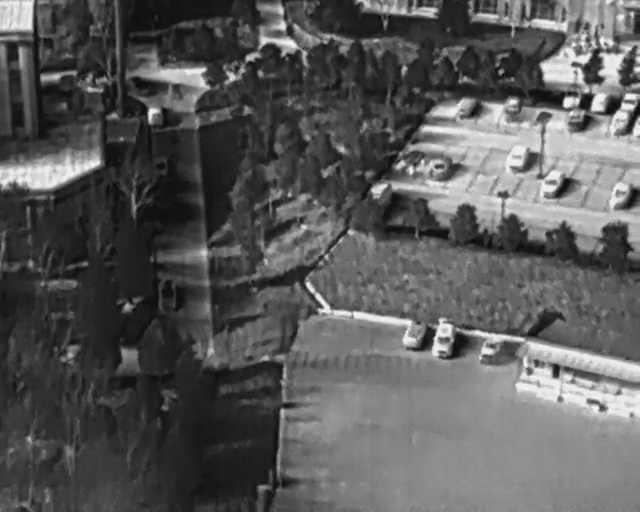Bicycle: (580, 30, 594, 52), (573, 42, 583, 57)
Car: (393, 143, 429, 179), (430, 315, 457, 362), (539, 164, 569, 202), (400, 316, 431, 350), (504, 143, 531, 173), (610, 178, 634, 211), (478, 334, 502, 366), (564, 105, 589, 135), (158, 277, 178, 314), (454, 94, 479, 121), (588, 89, 609, 114), (620, 87, 640, 113), (561, 85, 583, 108), (614, 107, 630, 135), (505, 93, 520, 122), (151, 155, 170, 176), (144, 108, 164, 126)
